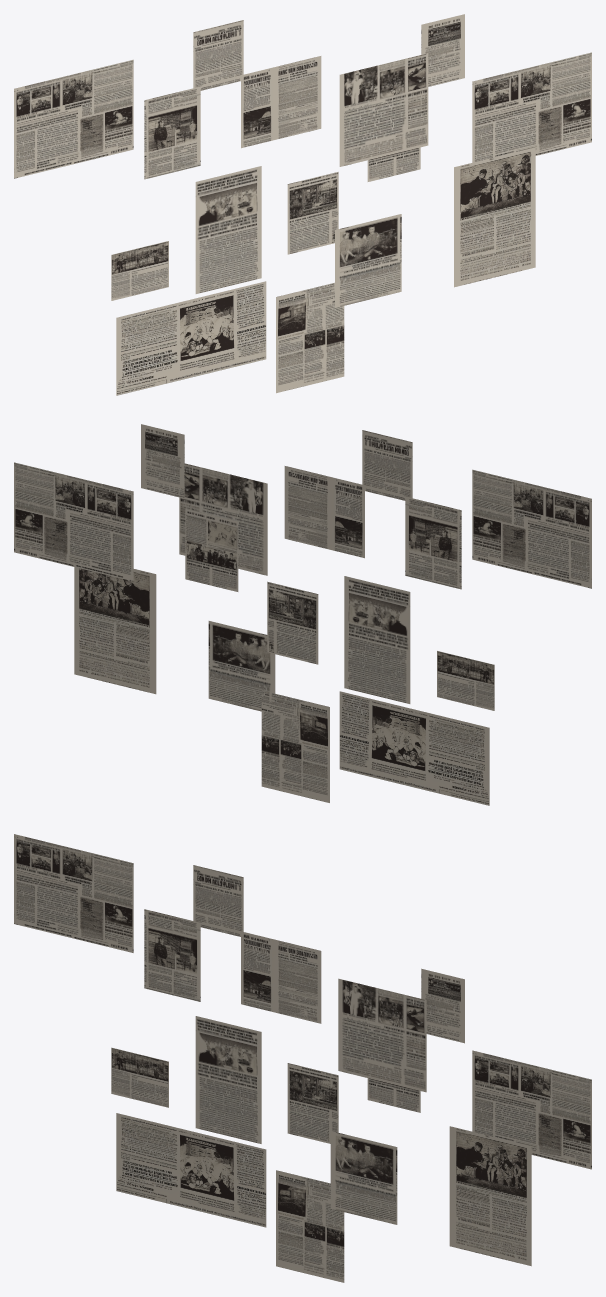
Rendered from newspaper.obj.
The picture shows the model from 3 angles, top to bottom: view 1: azimuth 30°, elevation 25°; view 2: azimuth 150°, elevation 25°; view 3: azimuth 330°, elevation 25°; orthographic projection.
Visible parts, largest first — view 1: thumb_tack.002; view 2: thumb_tack.002; view 3: thumb_tack.002.
Part boxes in pixels (left/top/right/bottom): thumb_tack.002: left=14, top=14, right=591, bottom=395; thumb_tack.002: left=14, top=424, right=591, bottom=805; thumb_tack.002: left=14, top=834, right=591, bottom=1282.
Bounding box in the file's own units: 92.41 × 58.24 × 0.5984.
